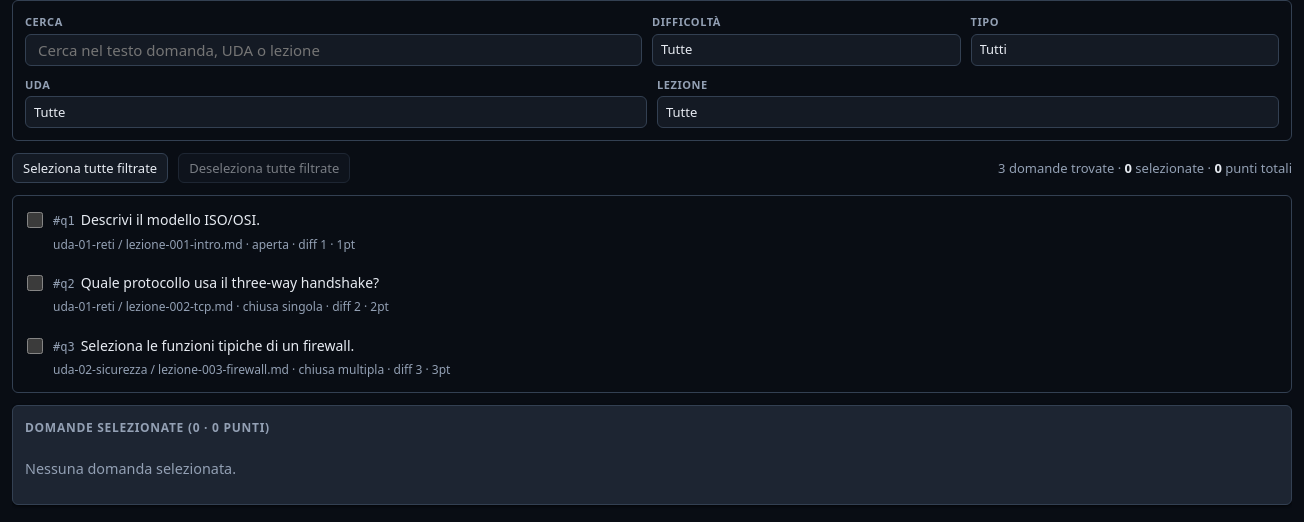
Scenario: QuestionPicker — filters › filters by UDA
expect the number of list items is 3: met, box [27,210,355,253]; [27,273,389,315]; [27,336,450,378]
Select "uda-02-sicurezza" in the dropdown named "Filtra per UDA". click: (336,112)
box: [25,96,647,128]
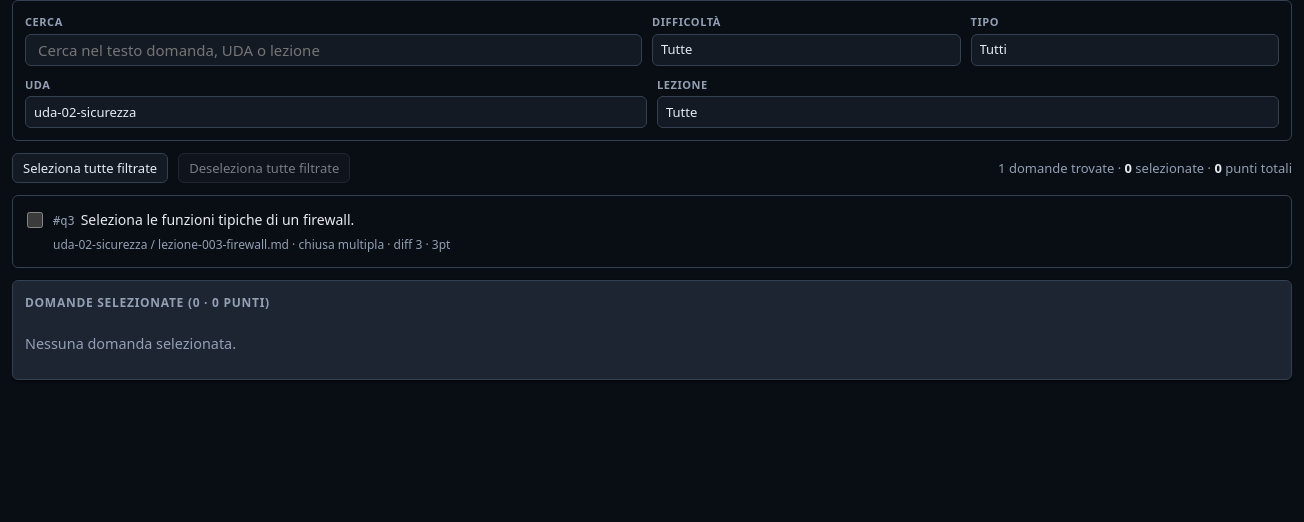
expect the text "lezione-003-firewall.md" is shown: met, box [158,236,289,253]
expect the number of list items is 1: met, box [27,210,450,253]
